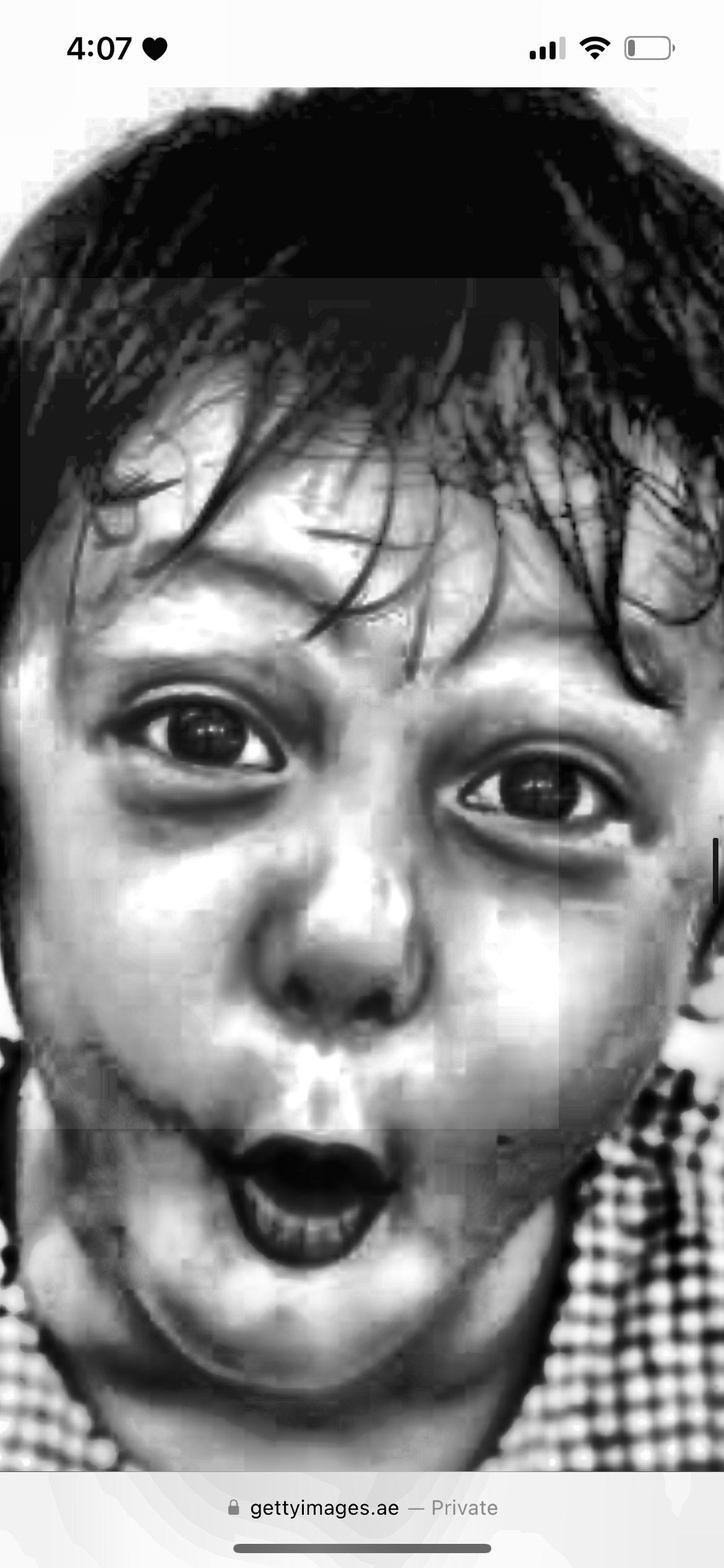surprised: (25, 344, 691, 1396)
